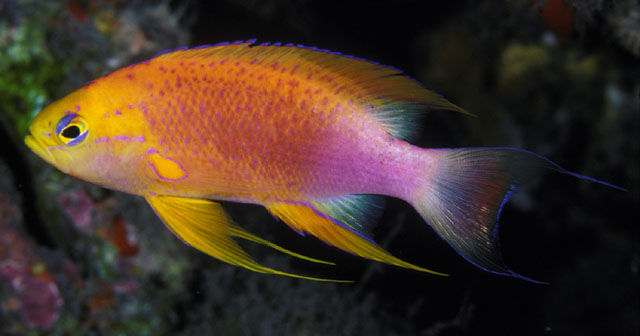fish: (23, 39, 620, 285)
